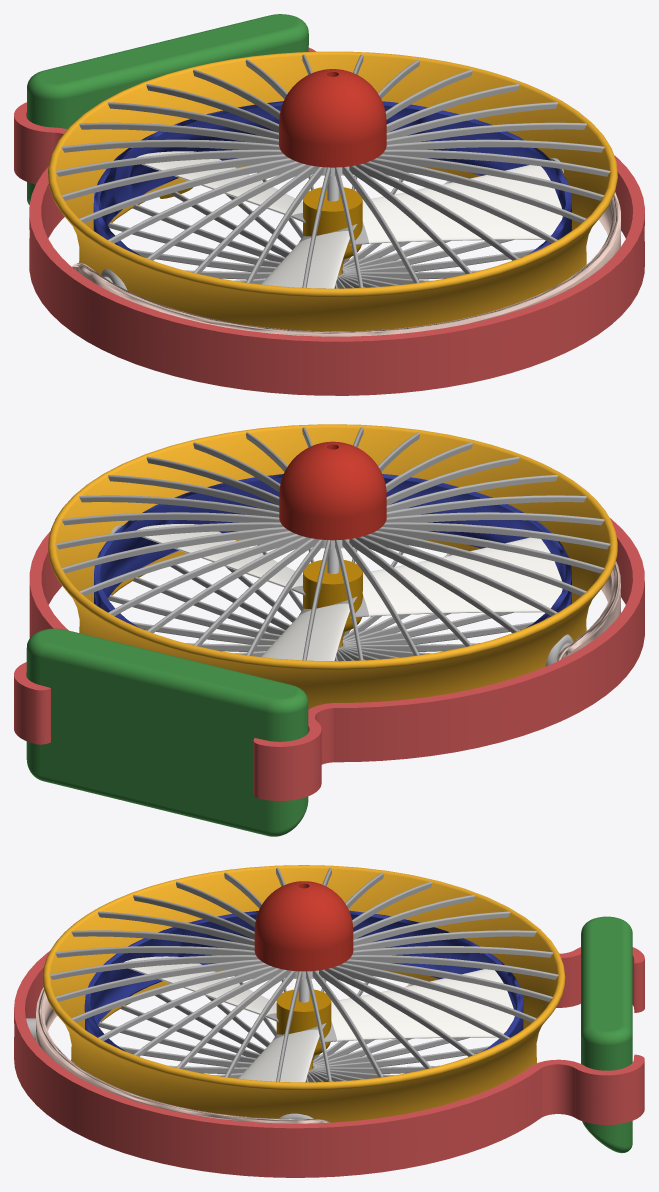
The model's file is Memphis fan v6.fbx.
3 views of the same model, one above another, from view 1: azimuth 30°, elevation 25°; view 2: azimuth 150°, elevation 25°; view 3: azimuth 270°, elevation 25° (orthographic). The views are drawn at different scales.
Visible parts, largest first — view 1: shell, 2nd Ring, base, rims1, motor2, propeller, propeller (3), 1st ring, propeller (7), propeller (1), propeller (6), rim 2 (20) (+25 smaller); view 2: shell, base, 2nd Ring, rims1, motor2, propeller, propeller (7), propeller (6), propeller (1), propeller (3), rim 2 (27), rim 2 (2) (+25 smaller); view 3: shell, 2nd Ring, base, rims1, motor2, propeller, propeller (6), 1st ring, propeller (3), propeller (1), propeller (7), rim 2 (4) (+25 smaller).
Boxes of the visible parts, x1=… form: shell: x1=48, y1=51, x2=617, y2=331; 2nd Ring: x1=14, y1=47, x2=644, y2=395; base: x1=27, y1=14, x2=308, y2=204; rims1: x1=108, y1=172, x2=534, y2=288; motor2: x1=279, y1=69, x2=386, y2=167; propeller: x1=93, y1=101, x2=571, y2=256; propeller (3): x1=362, y1=165, x2=562, y2=243; 1st ring: x1=71, y1=192, x2=620, y2=336; propeller (7): x1=261, y1=231, x2=349, y2=288; propeller (1): x1=303, y1=187, x2=362, y2=259; propeller (6): x1=136, y1=151, x2=302, y2=218; rim 2 (20): x1=377, y1=154, x2=604, y2=200; shell: x1=48, y1=424, x2=617, y2=709; base: x1=26, y1=628, x2=308, y2=836; 2nd Ring: x1=14, y1=518, x2=644, y2=800; rims1: x1=108, y1=545, x2=534, y2=661; motor2: x1=279, y1=441, x2=386, y2=540; propeller: x1=94, y1=474, x2=571, y2=628; propeller (7): x1=362, y1=537, x2=562, y2=616; propeller (6): x1=261, y1=603, x2=349, y2=660; propeller (1): x1=303, y1=560, x2=362, y2=632; propeller (3): x1=137, y1=524, x2=302, y2=590; rim 2 (27): x1=61, y1=527, x2=288, y2=573; rim 2 (2): x1=377, y1=527, x2=604, y2=573; shell: x1=42, y1=865, x2=565, y2=1122; 2nd Ring: x1=14, y1=947, x2=644, y2=1177; base: x1=581, y1=916, x2=632, y2=1153; rims1: x1=98, y1=975, x2=489, y2=1082; motor2: x1=254, y1=881, x2=353, y2=971; propeller: x1=84, y1=910, x2=523, y2=1051; propeller (6): x1=331, y1=969, x2=514, y2=1041; 1st ring: x1=36, y1=987, x2=329, y2=1123; propeller (3): x1=238, y1=1029, x2=319, y2=1082; propeller (1): x1=276, y1=989, x2=331, y2=1055; propeller (7): x1=124, y1=956, x2=276, y2=1017; rim 2 (4): x1=344, y1=959, x2=552, y2=1001.
Bounding box in the file's own units: 103 × 48.68 × 115.
